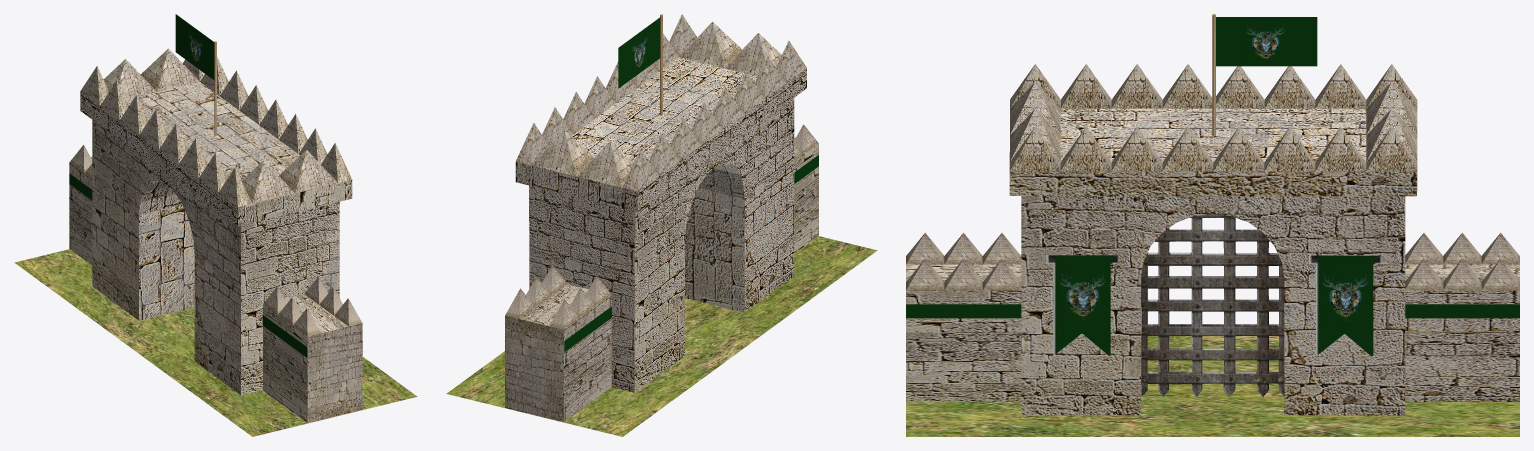
Rendered from Elf-Wall_Gate.fbx.
3 renders of one model, left to right at view 1: azimuth 30°, elevation 25°; view 2: azimuth 150°, elevation 25°; view 3: azimuth 270°, elevation 25°, orthographic. The views are drawn at different scales.
Visible parts, largest first — view 1: Puerta_Paredes, Puerta_Techo, Suelo, Muralla_Paredes, Muralla_Triangulos, Bandera, Muralla_Bandera; view 2: Puerta_Paredes, Puerta_Techo, Suelo, Muralla_Paredes, Muralla_Triangulos, Bandera, Muralla_Bandera; view 3: Puerta_Paredes, Puerta_Techo, Muralla_Paredes, Suelo, Puerta_Cerrada, Puerta_Banderas, Muralla_Triangulos, Bandera, Muralla_Bandera, Puerta_Abierta.
Boxes of the visible parts, x1,y1,x2,y2 form: Puerta_Paredes: (92,120,339,395); Puerta_Techo: (80,48,352,226); Suelo: (14,249,417,436); Muralla_Paredes: (69,157,362,422); Muralla_Triangulos: (69,144,362,336); Bandera: (175,14,214,79); Muralla_Bandera: (69,173,307,357); Puerta_Paredes: (529,98,794,392); Puerta_Techo: (515,14,806,211); Suelo: (446,236,877,436); Muralla_Paredes: (505,137,818,421); Muralla_Triangulos: (505,124,818,329); Bandera: (618,17,660,88); Muralla_Bandera: (564,155,818,352); Puerta_Paredes: (1021,196,1405,415); Puerta_Techo: (1009,64,1417,196); Muralla_Paredes: (906,264,1519,401); Suelo: (906,333,1519,436); Puerta_Cerrada: (1141,214,1284,397); Puerta_Banderas: (1046,255,1380,357); Muralla_Triangulos: (906,232,1519,290); Bandera: (1216,17,1317,66); Muralla_Bandera: (906,304,1519,318); Puerta_Abierta: (1164,97,1279,254).
Size of the model in its own units: 600 by 999 by 1500.
